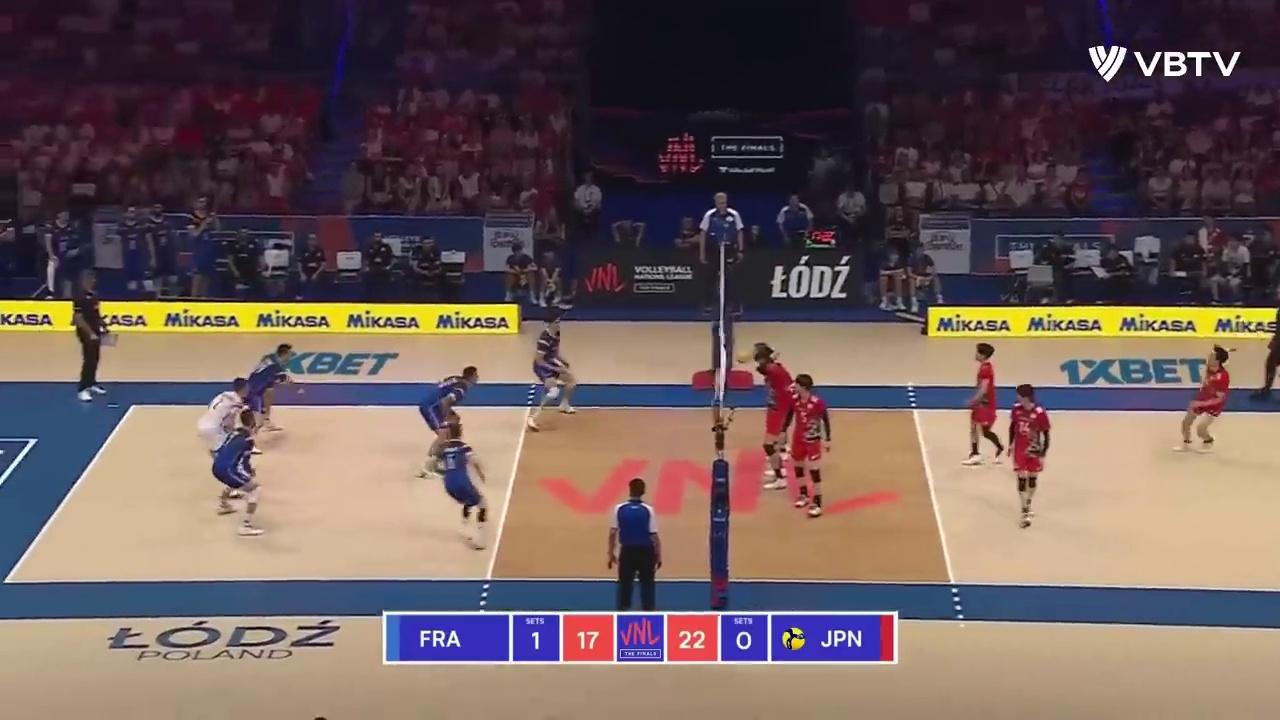ball: (734, 351, 749, 365)
